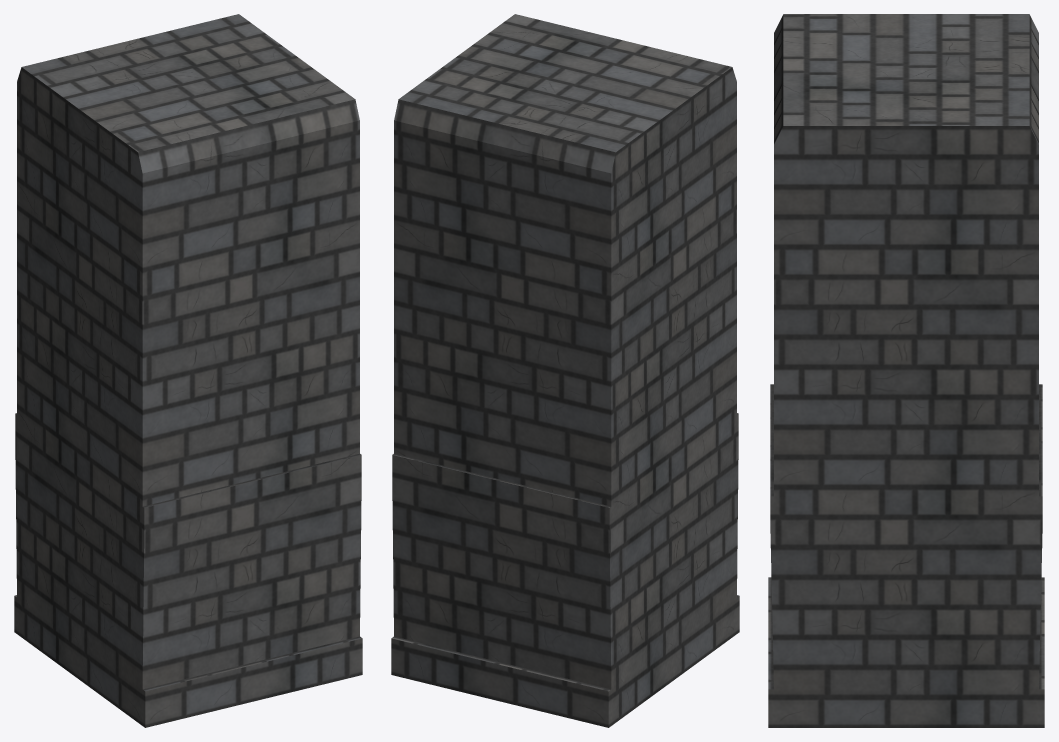
Rendered from kit_wall_span.glb.
3 views of the same model, side by side, from view 1: azimuth 30°, elevation 25°; view 2: azimuth 150°, elevation 25°; view 3: azimuth 270°, elevation 25° (orthographic). The views are drawn at different scales.
Parts seen in each view (by area): view 1: kit_wall_span; view 2: kit_wall_span; view 3: kit_wall_span.
Boxes of the visible parts, x1,y1,x2,y2 form: kit_wall_span: (14,14,362,727); kit_wall_span: (391,14,739,727); kit_wall_span: (768,14,1044,727).
Size of the model in its own units: 2.8 by 7.02 by 2.92.
Materials: 1 (1 with a texture image).
